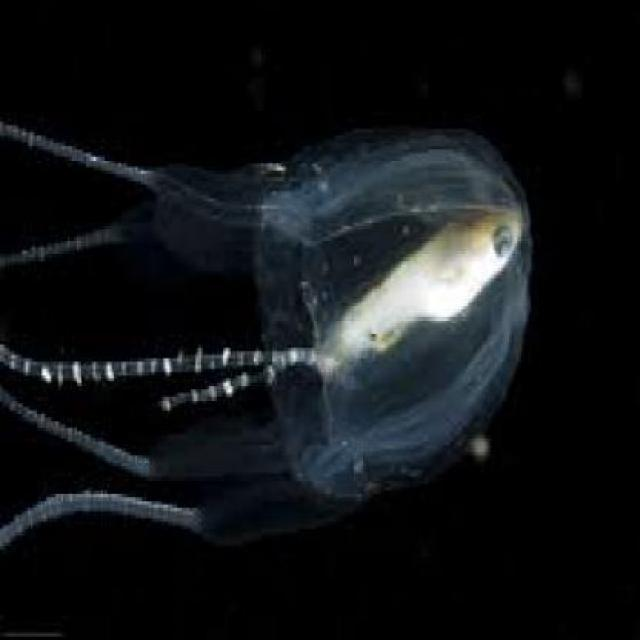Jellyfish: (248, 118, 528, 494)
